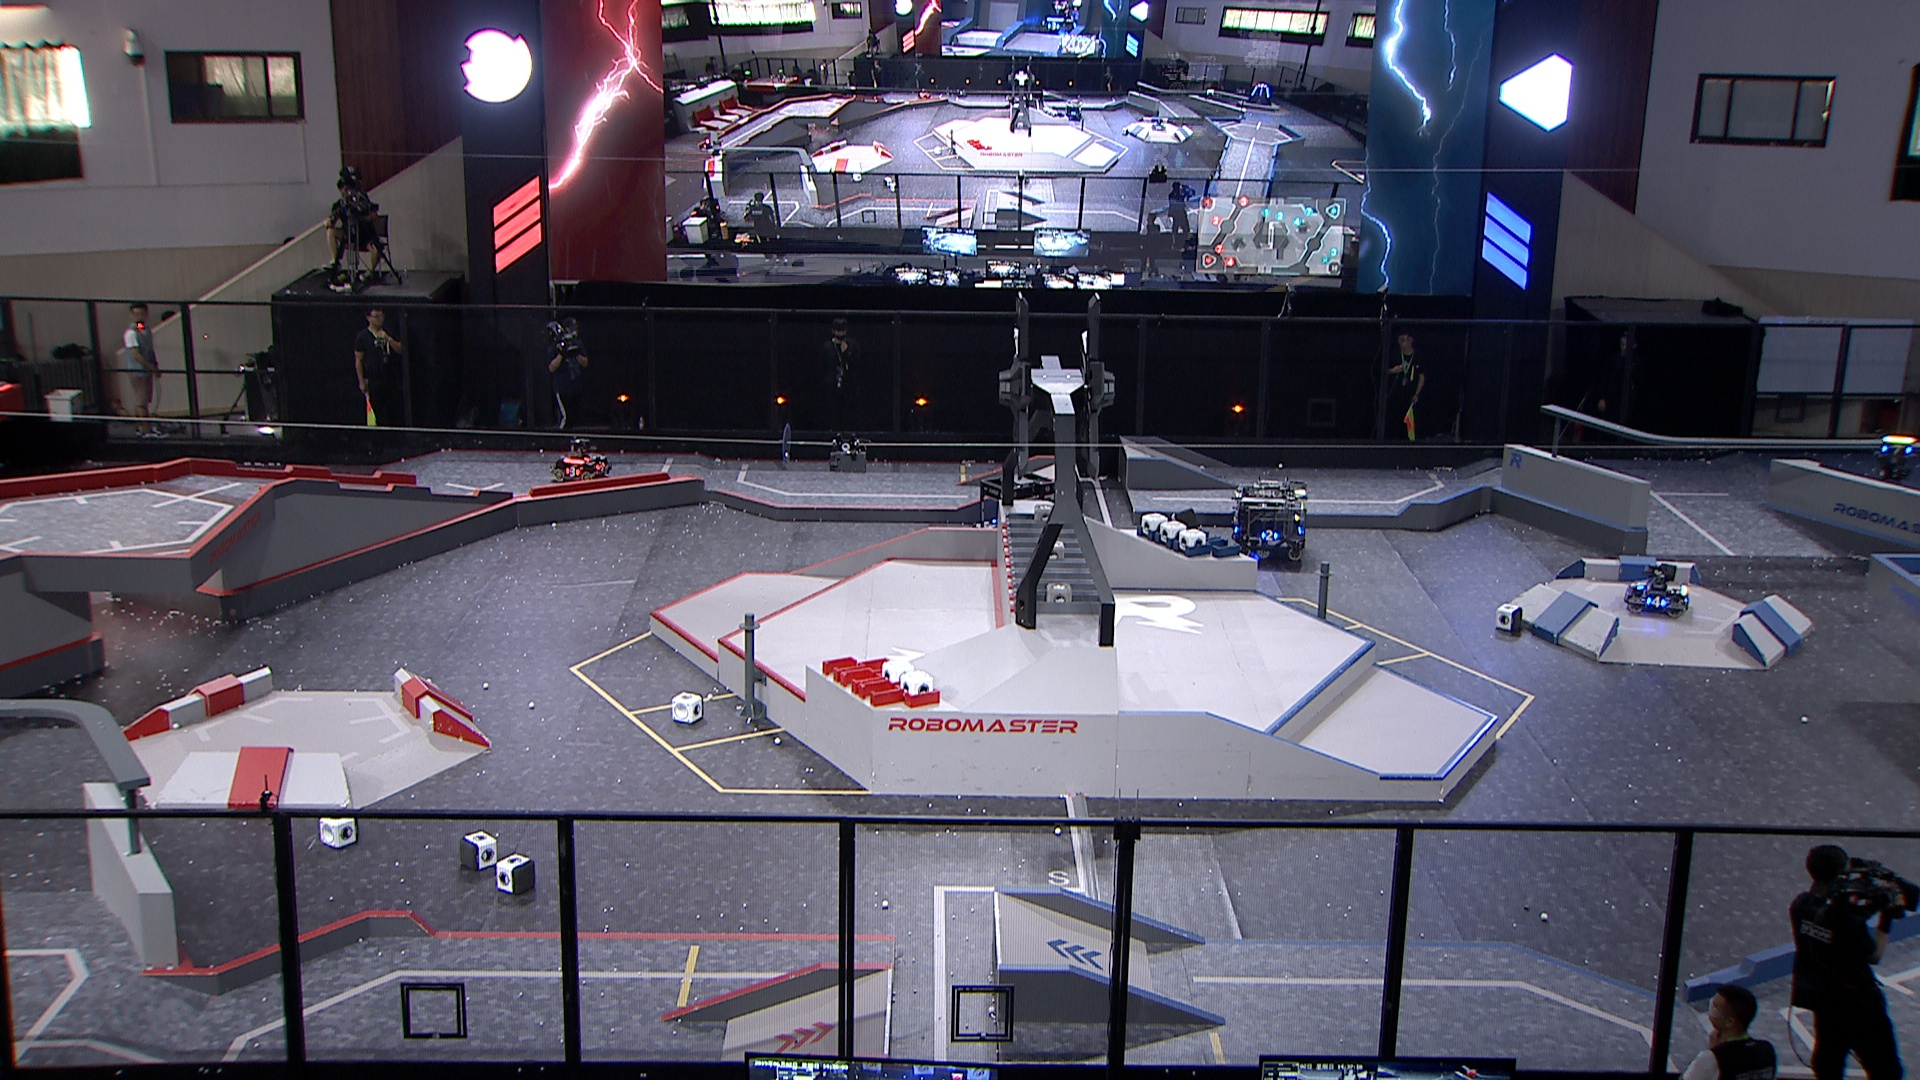armor: (1882, 443, 1913, 458), (1646, 593, 1667, 611), (1258, 529, 1280, 543), (564, 465, 582, 480), (593, 462, 608, 473), (1633, 580, 1647, 591)
car: (971, 472, 1062, 556), (1230, 477, 1309, 562), (1625, 562, 1691, 618), (550, 436, 613, 484)
ignore: (1034, 0, 1079, 33), (694, 195, 723, 229), (1247, 83, 1276, 107), (740, 199, 761, 223), (1064, 100, 1083, 123), (698, 136, 713, 153), (1153, 116, 1166, 133), (1204, 87, 1216, 100)
watcher: (1880, 433, 1920, 481)
